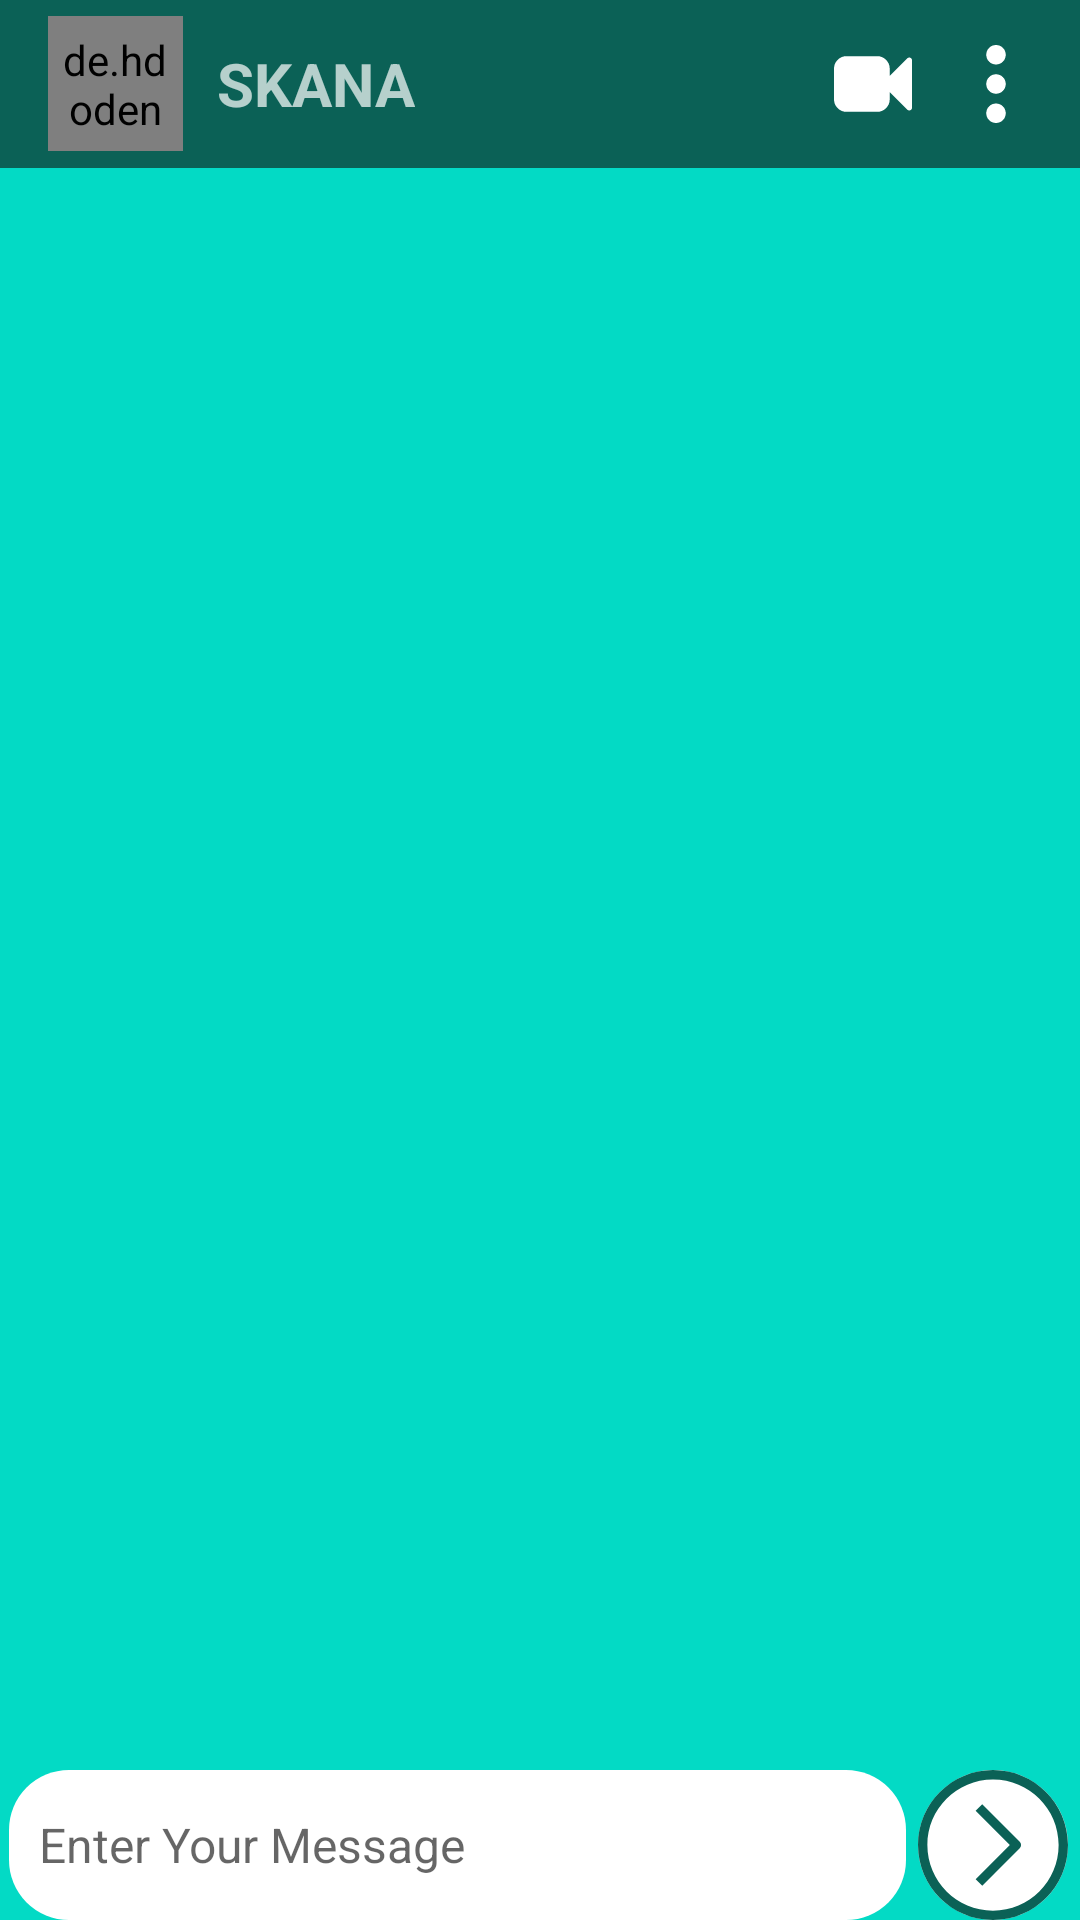

Icon bounding boxes for this 1080w x 1920h phone screenshot, format (x1, y1, x2, y2):
menu: (986, 45, 1006, 123)
rightarrow: (918, 1770, 1068, 1920)
videocalls: (834, 56, 912, 112)
